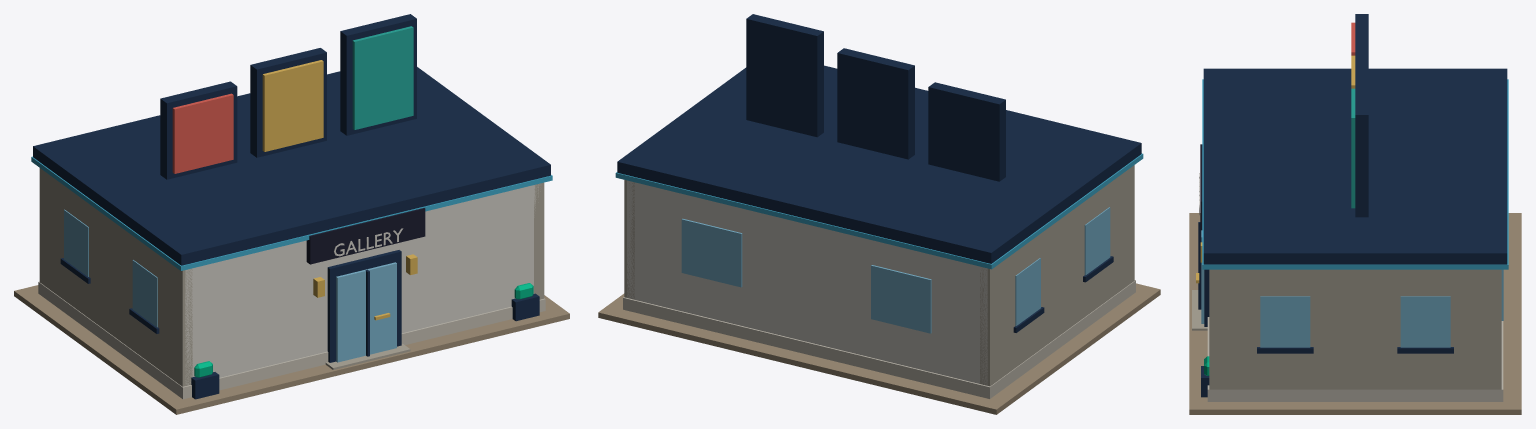
The model's file is gallery-hall-Cpe8EMln.glb.
3 renders of one model, left to right at view 1: azimuth 30°, elevation 25°; view 2: azimuth 150°, elevation 25°; view 3: azimuth 270°, elevation 25°, orthographic. The views are drawn at different scales.
Visible parts, largest first — view 1: Architecture; view 2: Architecture; view 3: Architecture.
Boxes of the visible parts, box(x1,y1,x2,y2) form: Architecture: box(14, 14, 569, 414); Architecture: box(598, 14, 1160, 414); Architecture: box(1189, 14, 1521, 414).
Size of the model in its own units: 14 by 8.78 by 10.
